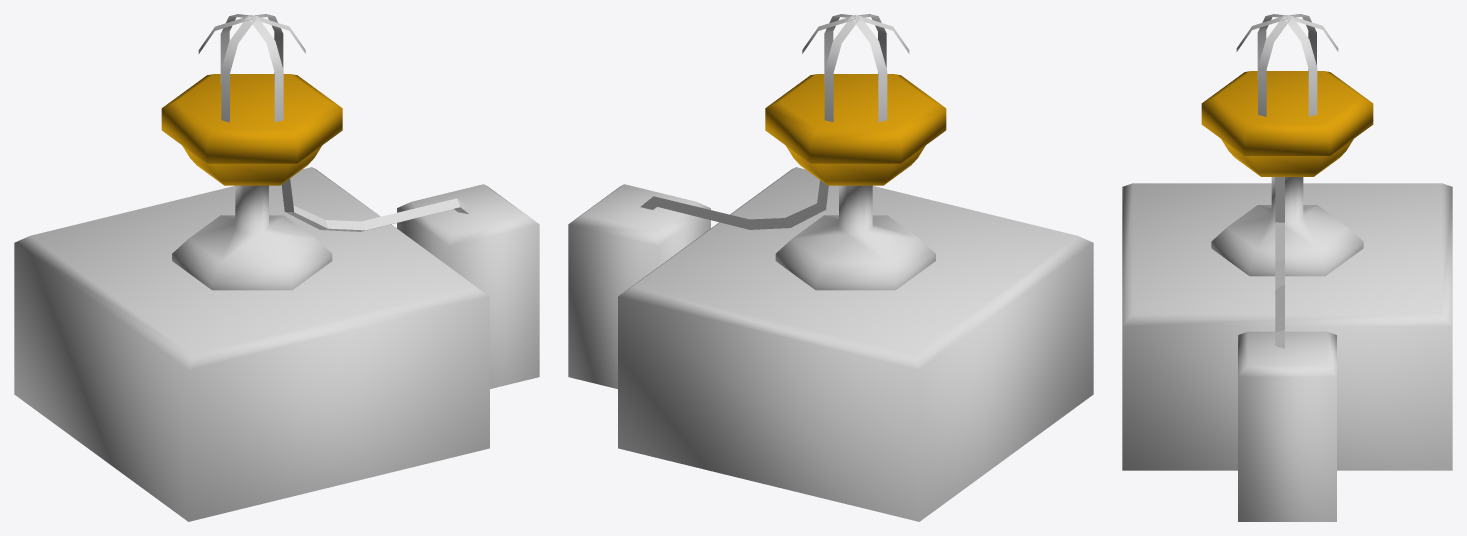
Rendered from stklib_runwayBeacon_a.glb.
3 renders of one model, left to right at view 1: azimuth 30°, elevation 25°; view 2: azimuth 150°, elevation 25°; view 3: azimuth 270°, elevation 25°, orthographic. The views are drawn at different scales.
Visible parts, largest first — view 1: stklib_runwayBeacon_a_main; view 2: stklib_runwayBeacon_a_main; view 3: stklib_runwayBeacon_a_main.
Boxes of the visible parts, bbox=[...] form: stklib_runwayBeacon_a_main: bbox=[14, 14, 539, 521]; stklib_runwayBeacon_a_main: bbox=[568, 14, 1093, 521]; stklib_runwayBeacon_a_main: bbox=[1122, 14, 1452, 521].
Size of the model in its own units: 2.21 by 2.08 by 1.62.
